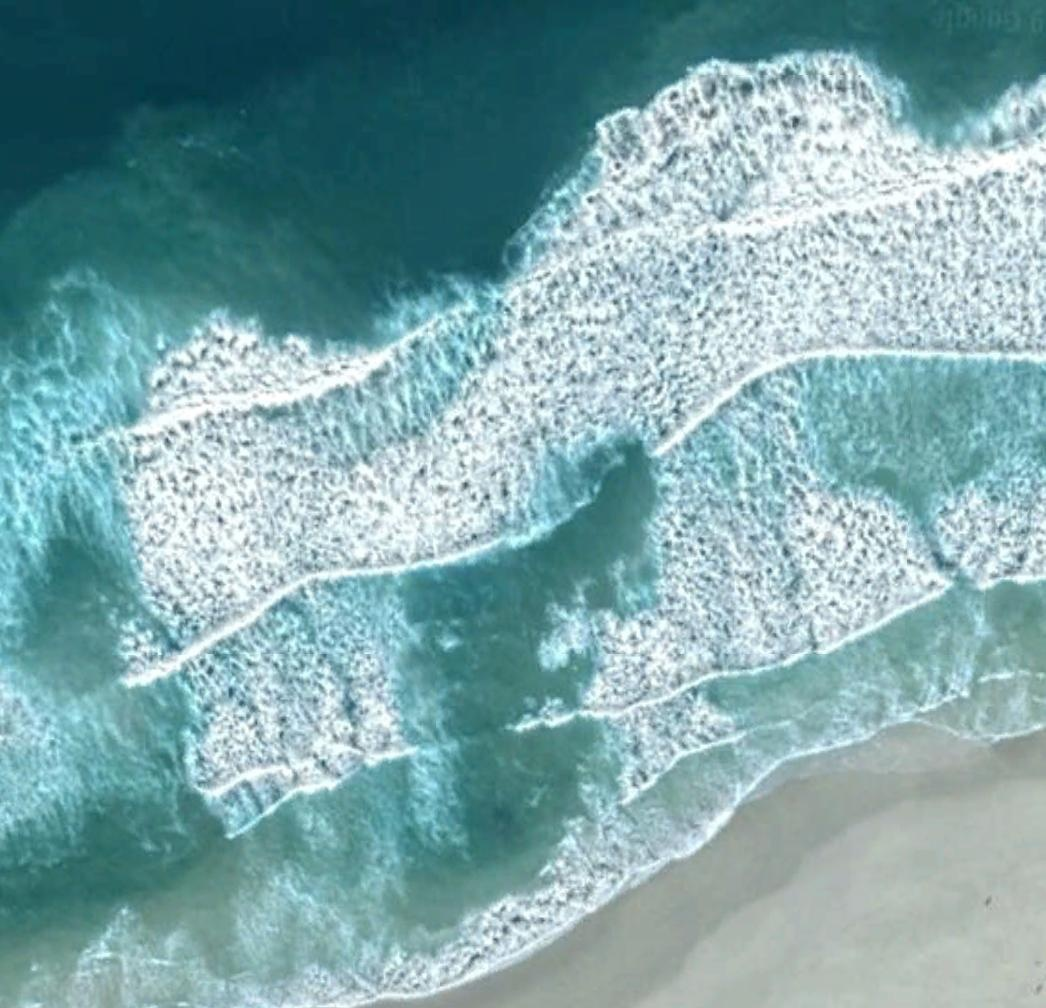rip_current: (308, 440, 689, 893)
